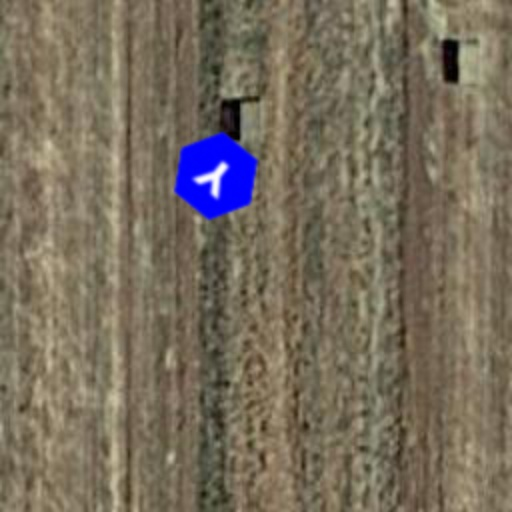hexagon: (152, 112, 280, 240)
